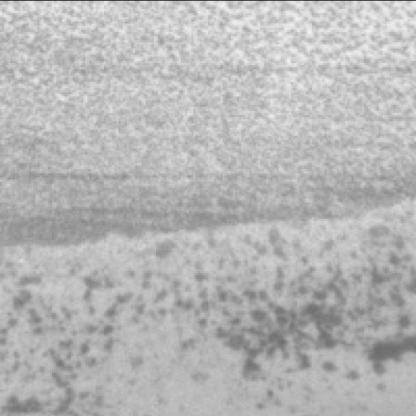pitted_surface: (8, 2, 416, 225), (8, 241, 416, 412)
